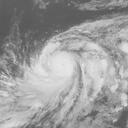cyclone: (19, 39, 93, 109)
